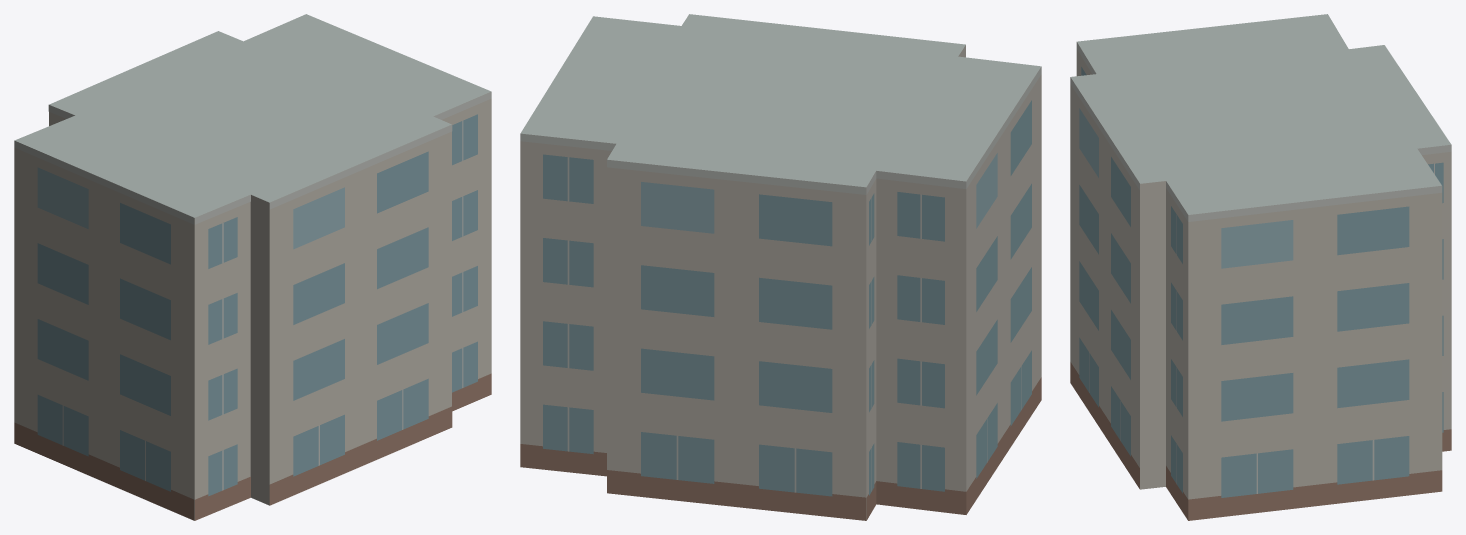
Rendered from survey-upis-33006762.glb.
3 renders of one model, left to right at view 1: azimuth 30°, elevation 25°; view 2: azimuth 150°, elevation 25°; view 3: azimuth 270°, elevation 25°, orthographic. The views are drawn at different scales.
Parts seen in each view (by area): view 1: survey-upis-33006762.tmp; view 2: survey-upis-33006762.tmp; view 3: survey-upis-33006762.tmp.
Boxes of the visible parts, x1,y1,x2,y2 form: survey-upis-33006762.tmp: (14,14,491,520); survey-upis-33006762.tmp: (520,14,1041,520); survey-upis-33006762.tmp: (1070,14,1451,520).
Size of the model in its own units: 14.95 by 10.6 by 11.98.
